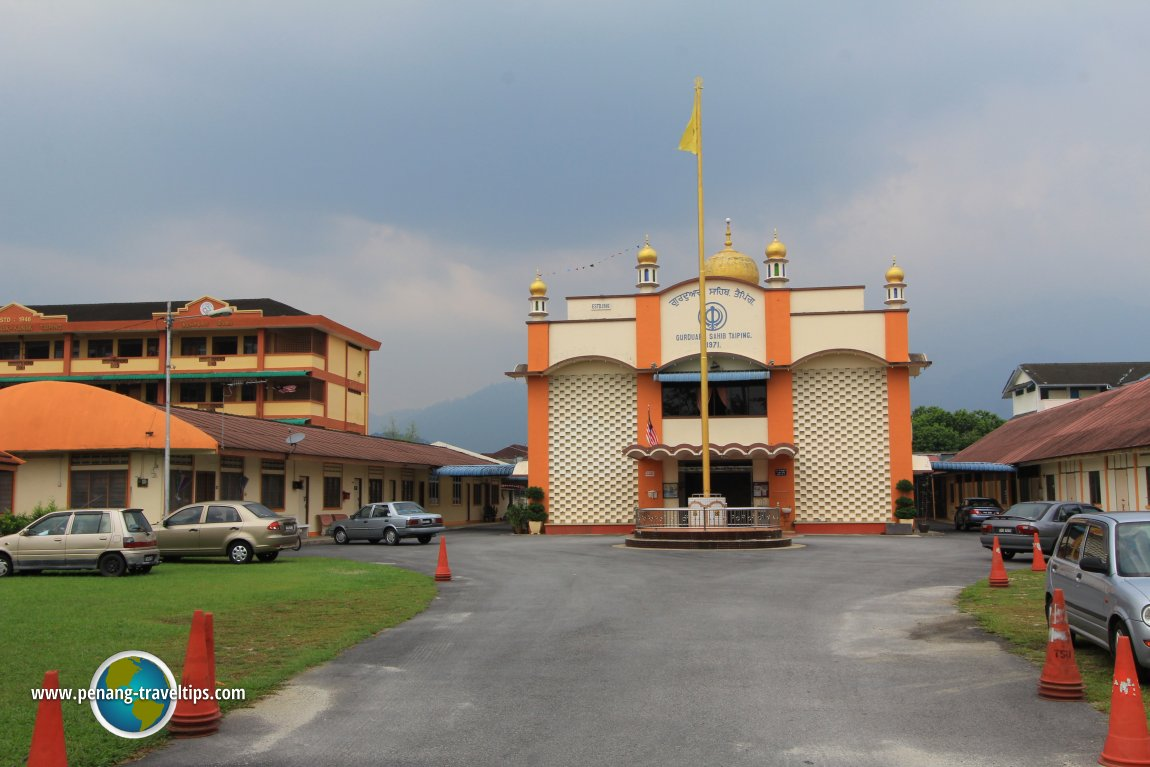Gurdwara: (525, 212, 921, 550)
